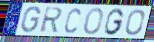C: (63, 7, 82, 35)
G: (20, 5, 42, 34), (104, 8, 126, 36)
O: (124, 9, 146, 37), (83, 8, 104, 36)
R: (39, 7, 64, 34)
